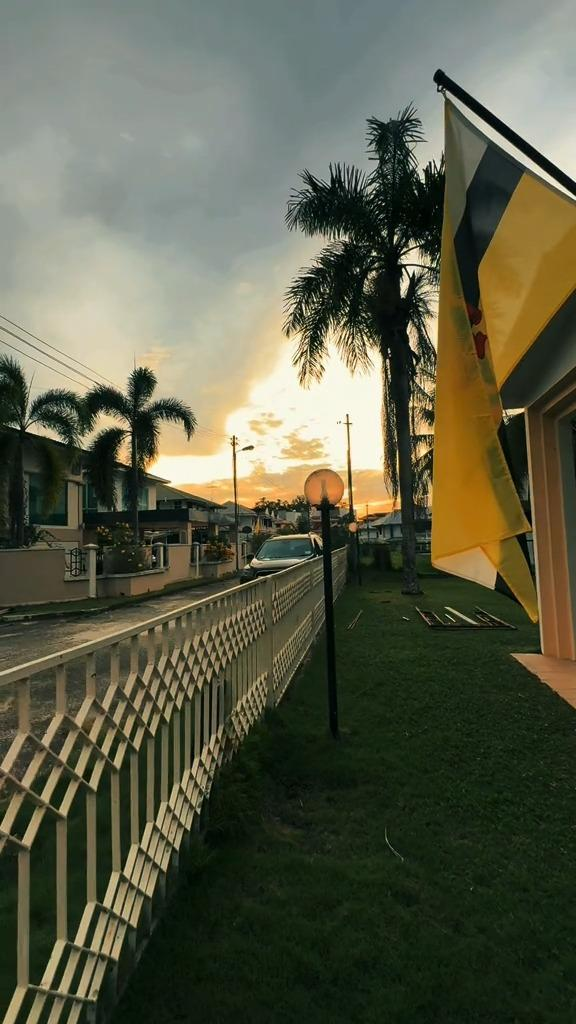Brunei: (433, 97, 575, 618)
